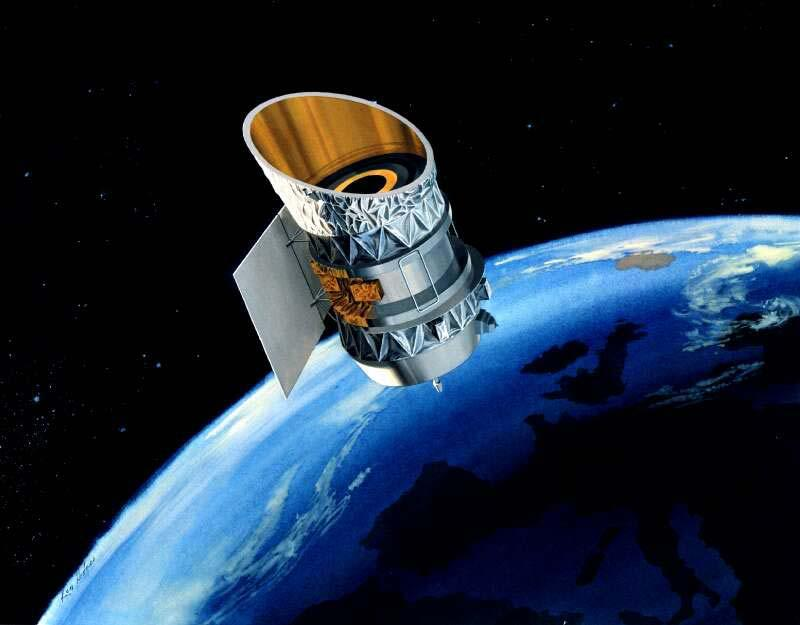body: (240, 88, 487, 393)
solar: (230, 203, 335, 402)
